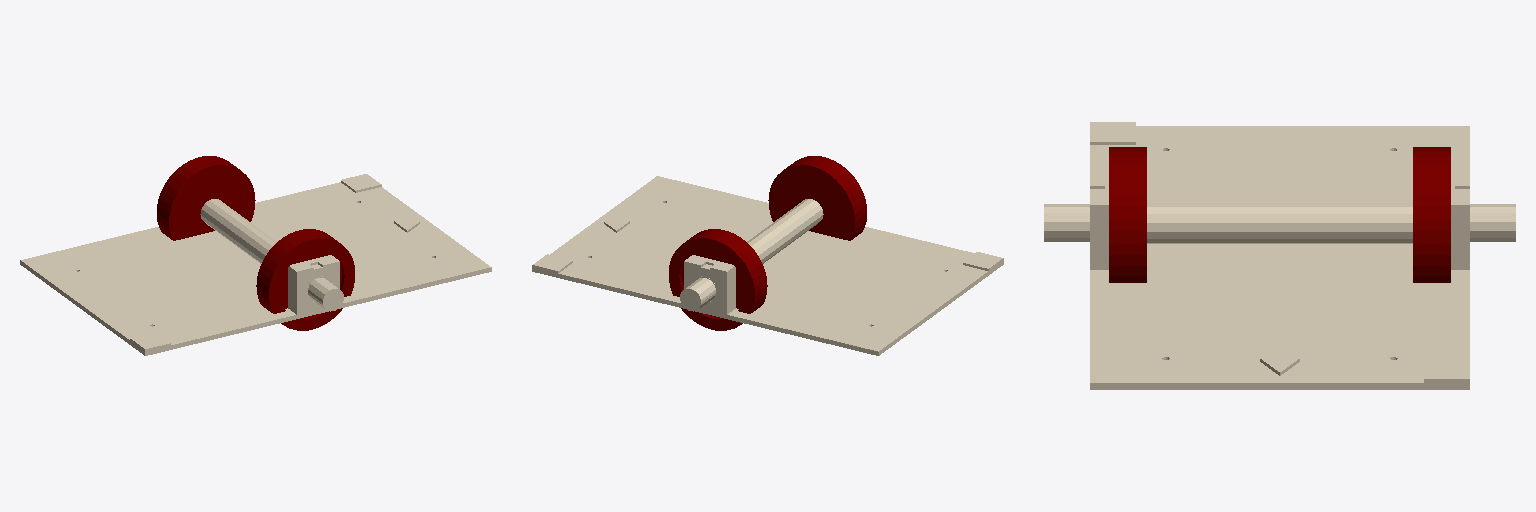
robot.urdf — amr:
<?xml version="1.0" encoding="utf-8"?>
<!-- This URDF was automatically created by SolidWorks to URDF Exporter! Originally created by [author] ([email redacted]) 
     Commit Version: 1.5.0-0-g9aa0fdb  Build Version: 1.5.7004.21443
     For more information, please see http://wiki.ros.org/sw_urdf_exporter -->
<robot
  name="amr">
  <link name="base_link">
    <visual>
      <origin
        xyz="0 0 0.045"
        rpy="0 0 0" />
      <geometry>
        <mesh
          filename="package://amr_description/meshes/base_link.STL" />
      </geometry>
      <collision>
       <origin
        xyz="0 0 0"
        rpy="0 0 0" />
      <geometry>
        <mesh
          filename="package://amr_description/meshes/base_link.STL" />
      </geometry>
      </collision>
      <material
        name="white">
      </material>
    </visual>
  </link>
    <!--link
    name="base_footprint">
  </link>
    <joint
    name="footprint_joint"
    type="fixed">
      <origin
      xyz="0 0 0.04"
      rpy="0 0 0" />
    <parent
      link="base_footprint" />
    <child
      link="base_link" />
  </joint> -->
  <link
    name="lw_link">
    <visual>
      <origin
        xyz="0 0 0"
        rpy="-1.5707963267949 0 0" />
      <geometry>
        <mesh
          filename="package://amr_description/meshes/lw_link.STL" />
      </geometry>
      <material
        name="red">
      </material>
    </visual>
  </link>
  <joint
    name="lw_joint"
    type="continuous">
      <origin
      xyz="0 0.225 0.1"
      rpy="0 0 0" />
    <parent
      link="base_link" />
    <child
      link="lw_link" />
    <axis
      xyz="0 1 0" />
    <safety_controller
      k_velocity="0" />
  </joint>
  <link
    name="rw_link">
    <visual>
      <origin
        xyz="0 0 0"
        rpy="1.5707963267949 0 0" />
      <geometry>
        <mesh
          filename="package://amr_description/meshes/rw_link.STL" />
      </geometry>
      <material
        name="red">
      </material>
    </visual>
  </link>
  <joint
    name="rw_joint"
    type="continuous">
      <origin
      xyz="0 -0.225 0.1"
      rpy="0 0 0" />
    <parent
      link="base_link" />
    <child
      link="rw_link" />
    <axis
      xyz="0 1 0" />
    <safety_controller
      k_velocity="0" />
  </joint>

  <joint name="hokuyo_joint" type="fixed">
     <origin xyz="0.35 -0.28 0.09" rpy="0.0 0.0 -0.785"/>
    <parent link="base_link"/>
    <child link="hokuyo_link"/>
  </joint>

  <link name="hokuyo_link">
    <visual>
      <origin xyz="0 0 0" rpy="0 0 0"/>
      <geometry>
       <mesh filename="package://amr_description/meshes/hokuyo.dae" />
      </geometry>
    </visual>
  </link>

    <material name="black">
      <color rgba="0.007 0.007 0.007 1.0"/>
    </material>

    <material name="red">
      <color rgba="0.49693 0.01298 0.00518 1.0"/>
    </material>

    <material name="white">
      <color rgba="0.87962 0.8388 0.75294 1.0"/>
    </material>

</robot>

--- Render facts (derived) ---
The picture shows the robot from 3 angles, left to right: view 1: azimuth 30°, elevation 25°; view 2: azimuth 150°, elevation 25°; view 3: azimuth 270°, elevation 25°; orthographic projection.
Model amr with 4 links and 3 joints (2 continuous, 1 fixed), rooted at base_link, posed all joints at 0.
Visible links, largest first — view 1: base_link, lw_link, rw_link; view 2: base_link, rw_link, lw_link; view 3: base_link, lw_link, rw_link.
Boxes of the visible links, x1=… form: base_link: x1=20, y1=174, x2=491, y2=355; lw_link: x1=157, y1=156, x2=255, y2=240; rw_link: x1=256, y1=229, x2=354, y2=330; base_link: x1=532, y1=176, x2=1003, y2=355; rw_link: x1=768, y1=156, x2=866, y2=240; lw_link: x1=669, y1=229, x2=767, y2=330; base_link: x1=1044, y1=122, x2=1515, y2=389; lw_link: x1=1413, y1=147, x2=1450, y2=282; rw_link: x1=1109, y1=147, x2=1146, y2=282.
Size in the robot's own frame: 0.8 by 0.62 by 0.1993 metres.
Meshes: 4 distinct files referenced, 3 mesh visuals loaded (3 binary STL); not drawn: 1 (reference not matched to a file when rendering).
